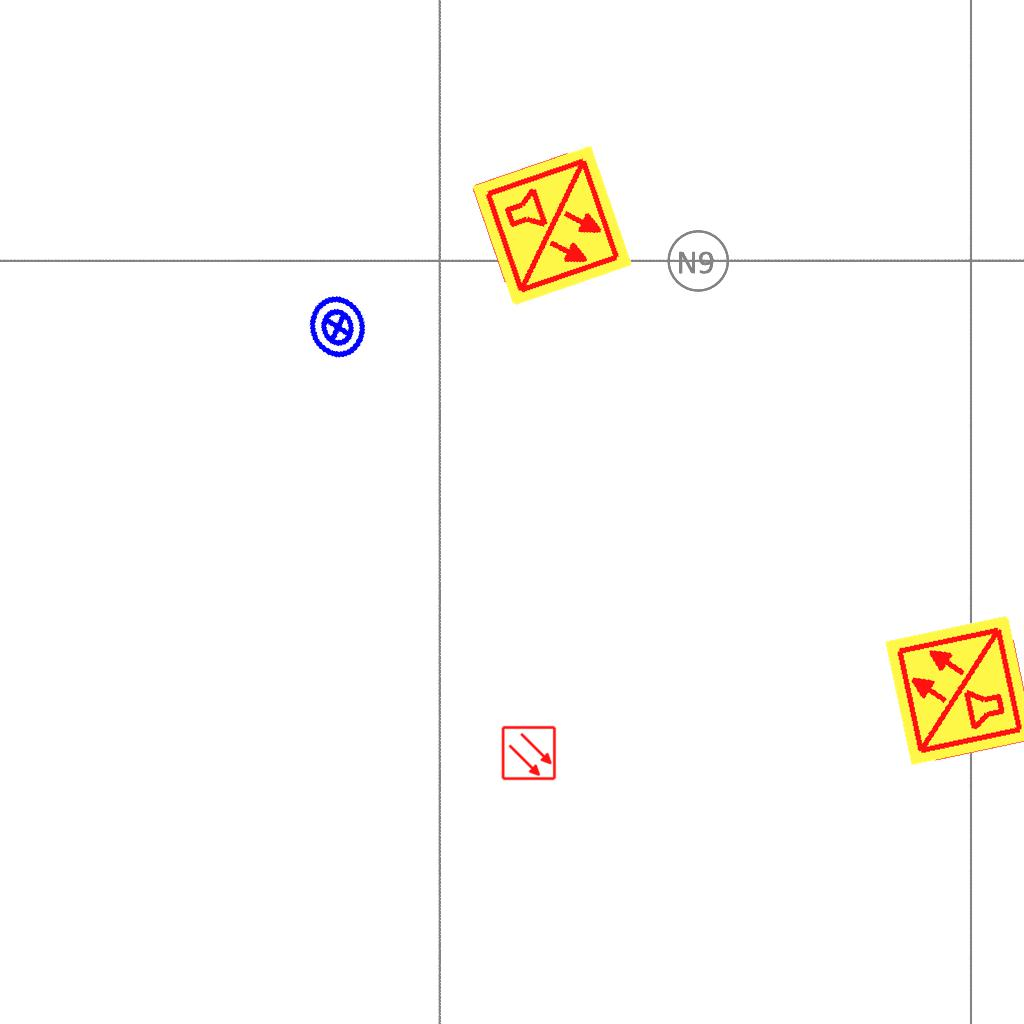OKW_Multisensormelder_(Kombination_optischer_Rauch-Kahlenmonoxid_Waerme-Melder): (468, 142, 636, 310), (881, 611, 1024, 769)
RMO_Rauchmelder_optischer: (501, 725, 557, 781)
Taster_beleuchtet: (297, 286, 379, 368)
